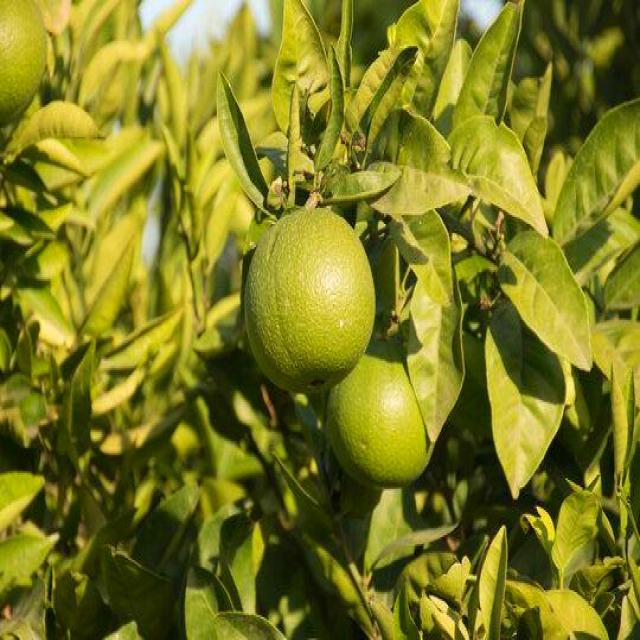Jeruk Belum Matang: (245, 208, 376, 394), (327, 336, 436, 487)
